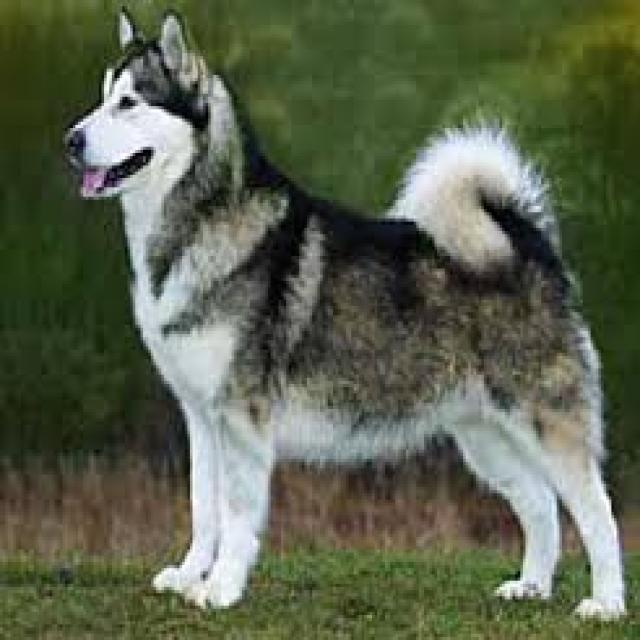ALASKAN_MALAMUTE: (57, 10, 640, 640)
